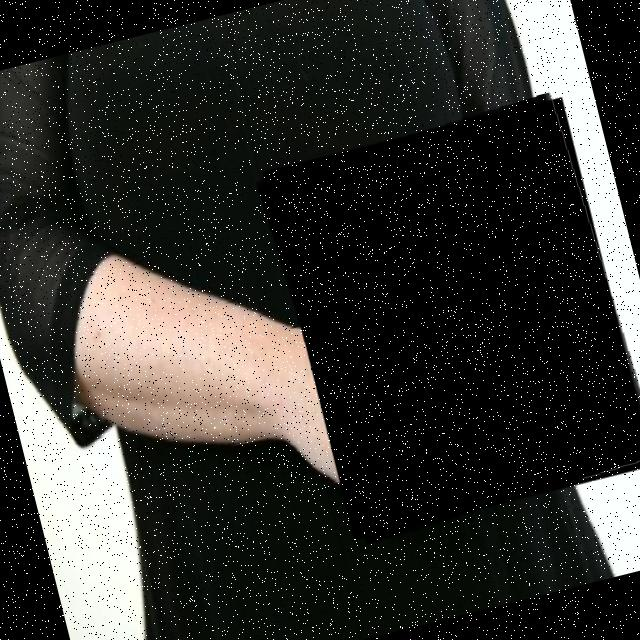Y: (258, 93, 640, 546)
